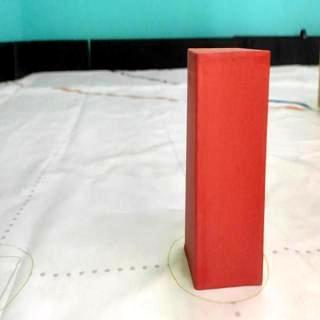redbox: (183, 47, 270, 290)
